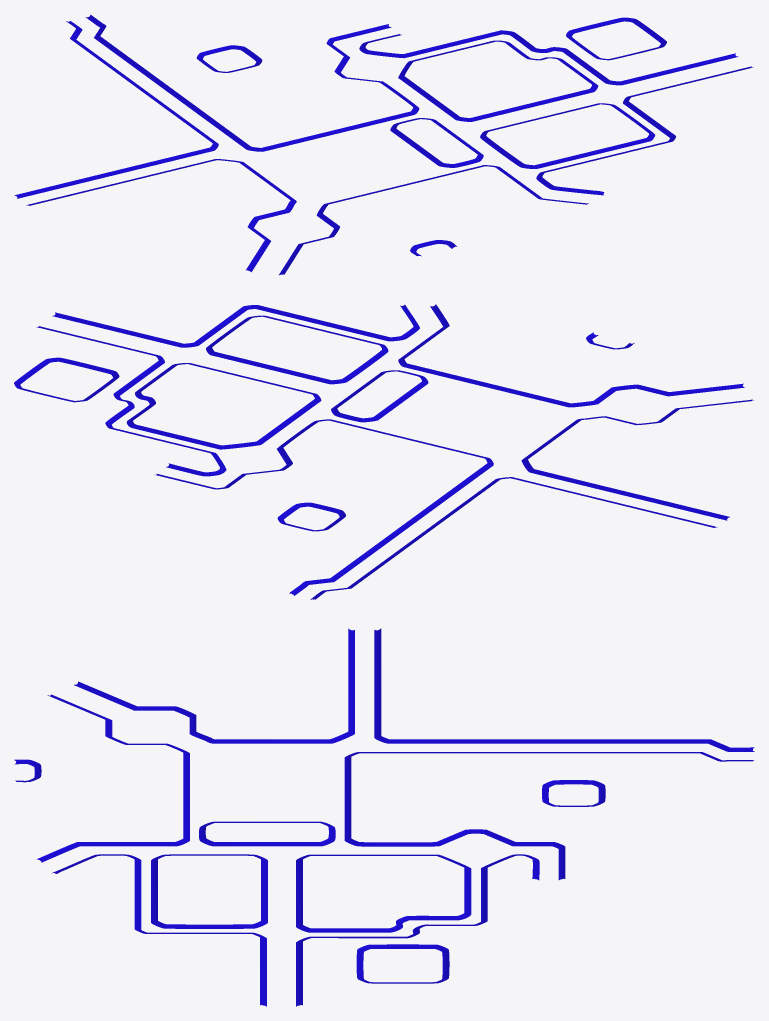
The model's file is SM_CarpetShadow.fbx.
The picture shows the model from 3 angles, top to bottom: view 1: azimuth 30°, elevation 25°; view 2: azimuth 150°, elevation 25°; view 3: azimuth 270°, elevation 25°; orthographic projection. The views are drawn at different scales.
Visible parts, largest first — view 1: Shadow; view 2: Shadow; view 3: Shadow.
Boxes of the visible parts, box(x1,y1,x2,y2) form: Shadow: box(14, 14, 753, 275); Shadow: box(14, 304, 753, 599); Shadow: box(14, 628, 754, 1006).
Size of the model in its own units: 6879 by 14.22 by 5714.
